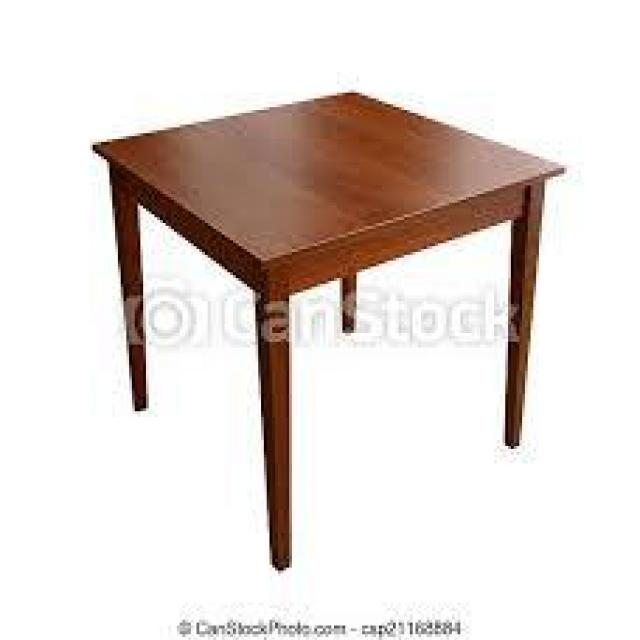table: (54, 72, 604, 568)
